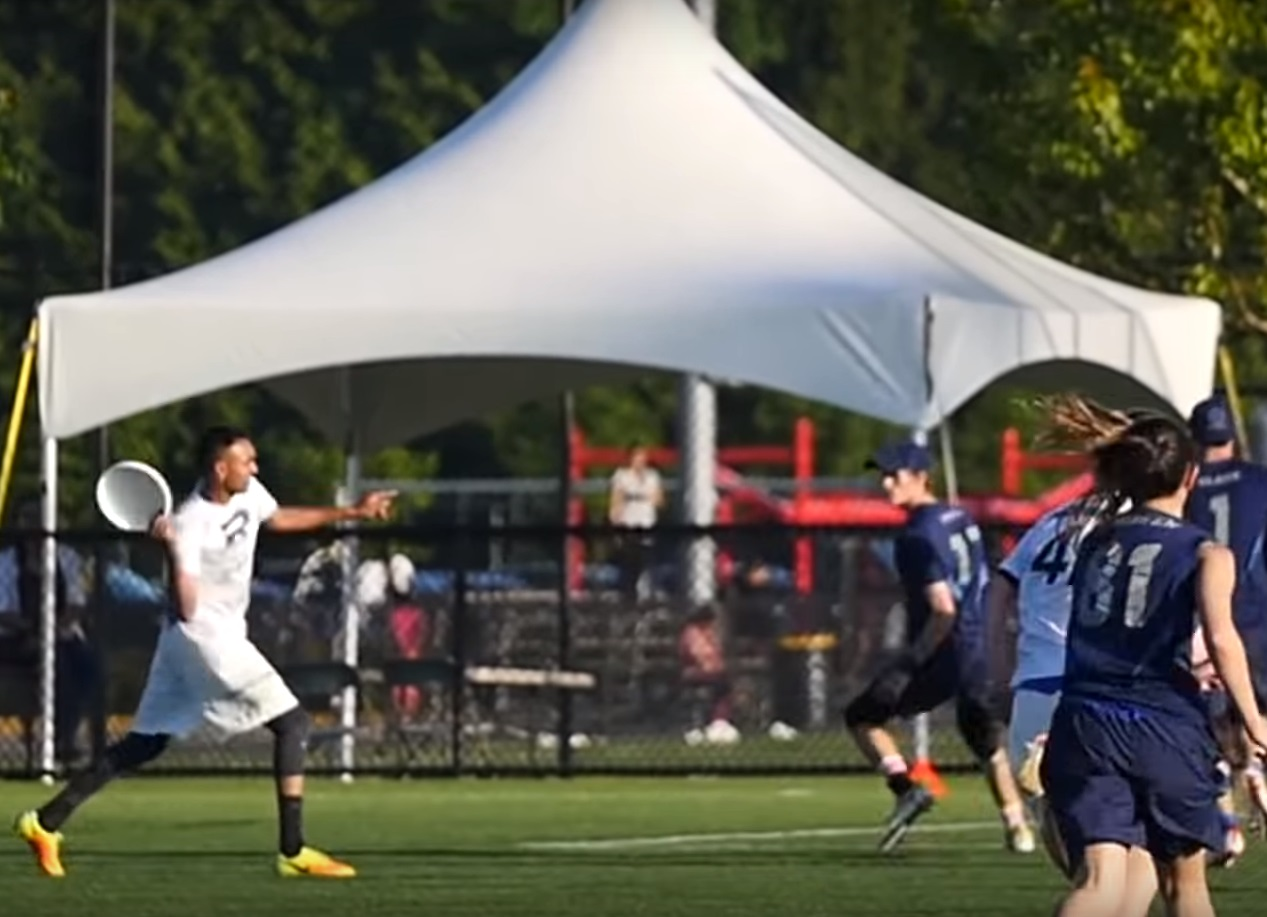frisbee: (95, 459, 174, 533)
